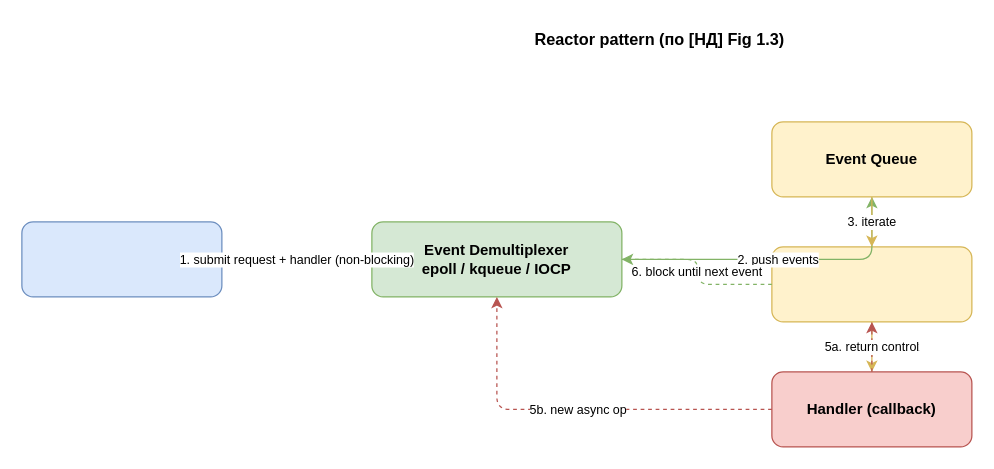
This 994x469 diagram has some shape labels left out. The box of each missing label's shape, as (x1, y1, x2, y2) in pixels:
Application code: (21, 221, 222, 297)
Event Loop: (771, 246, 972, 322)
